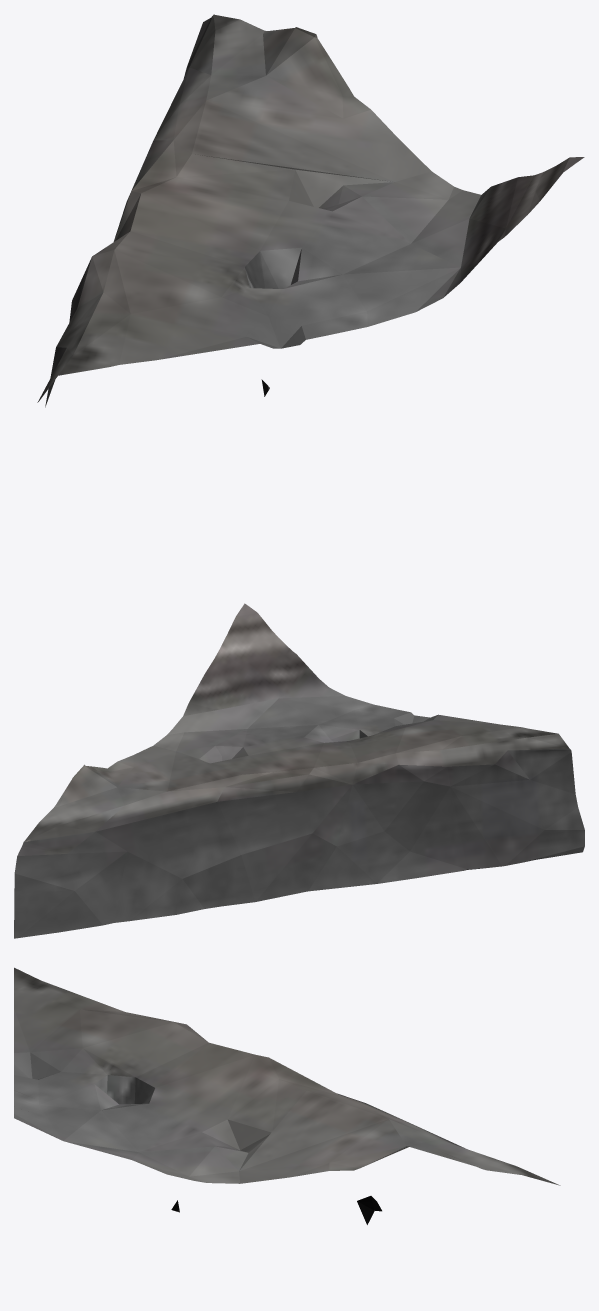
3 renders of one model, top to bottom at view 1: azimuth 30°, elevation 25°; view 2: azimuth 150°, elevation 25°; view 3: azimuth 270°, elevation 25°, orthographic. The views are drawn at different scales.
Bounding box in the file's own units: 0.3309 × 0.1546 × 0.3887.
1 material, 1 textured.
